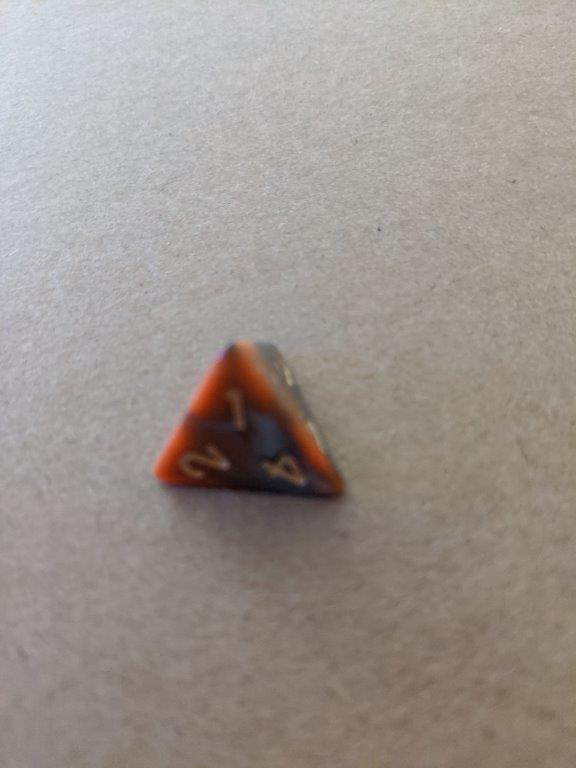d4-1: (147, 335, 353, 504)
